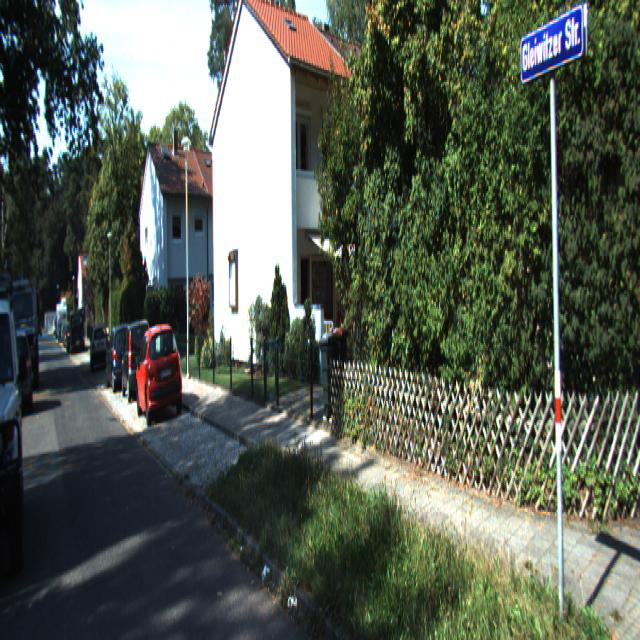Car: (0, 263, 24, 589), (133, 320, 183, 429), (116, 321, 152, 403), (101, 323, 134, 395), (89, 323, 108, 372)
DontCare: (55, 316, 84, 358)
Truck: (5, 274, 38, 384)
